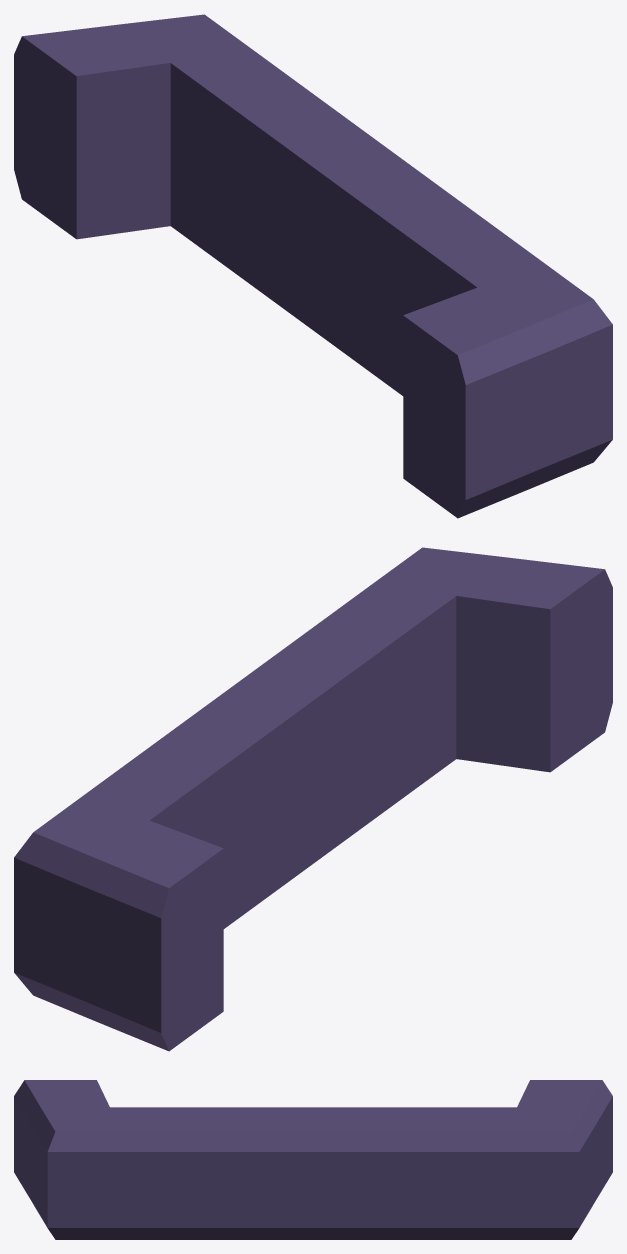
File: SM_Bushing.fbx
3 views of the same model, one above another, from view 1: azimuth 30°, elevation 25°; view 2: azimuth 150°, elevation 25°; view 3: azimuth 270°, elevation 25° (orthographic). The views are drawn at different scales.
Parts seen in each view (by area): view 1: SM_Bushing; view 2: SM_Bushing; view 3: SM_Bushing.
Part boxes in pixels (x1=…): SM_Bushing: x1=14, y1=14, x2=612, y2=518; SM_Bushing: x1=14, y1=547, x2=612, y2=1051; SM_Bushing: x1=14, y1=1080, x2=612, y2=1239.
Bounding box in the file's own units: 0.0492 × 0.0444 × 0.2229.
